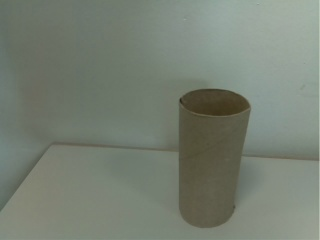rollo papel: (177, 86, 253, 228)
